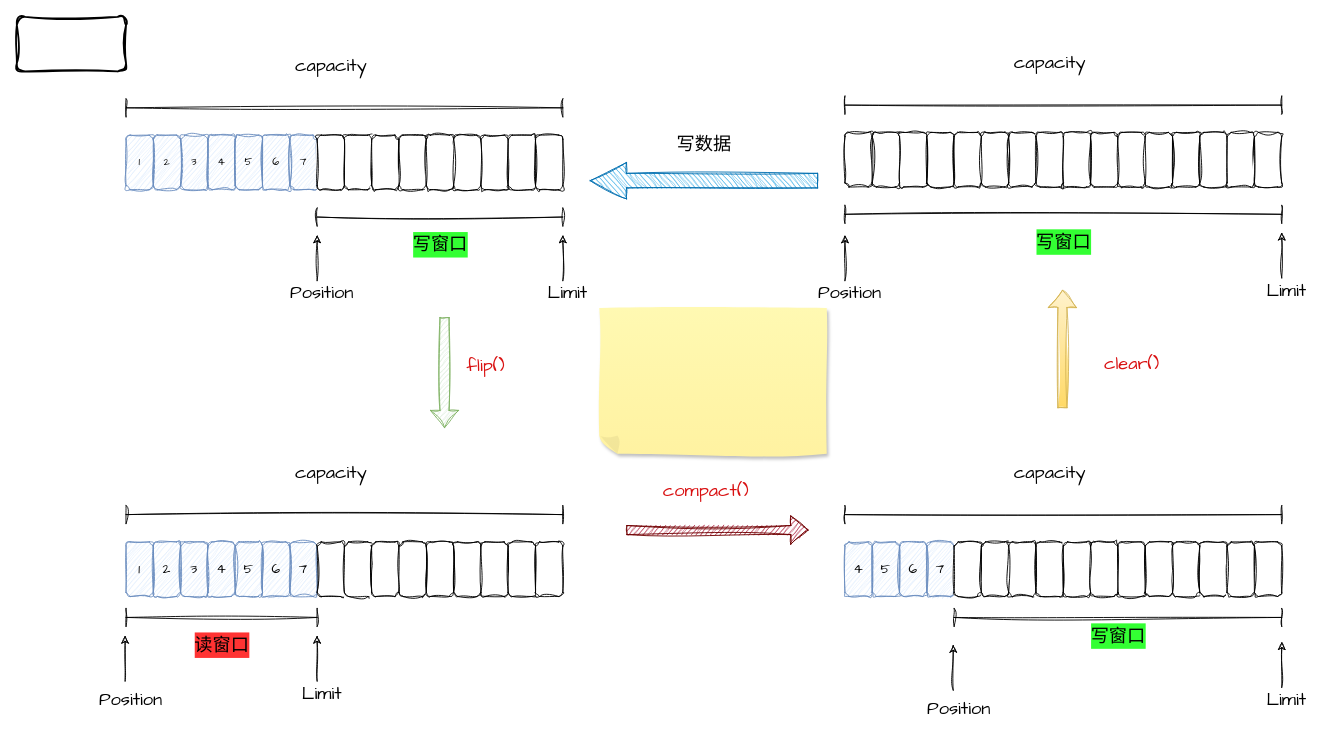
Image size: 1342x742. Some labels were removed from this diagram. Each missing label, with the centre of its shape:
"Buffer" belongs at (70,43).
"position：下一个读写位置； limit：读写位置上限； capacity：buffer容量；" belongs at (713,382).
